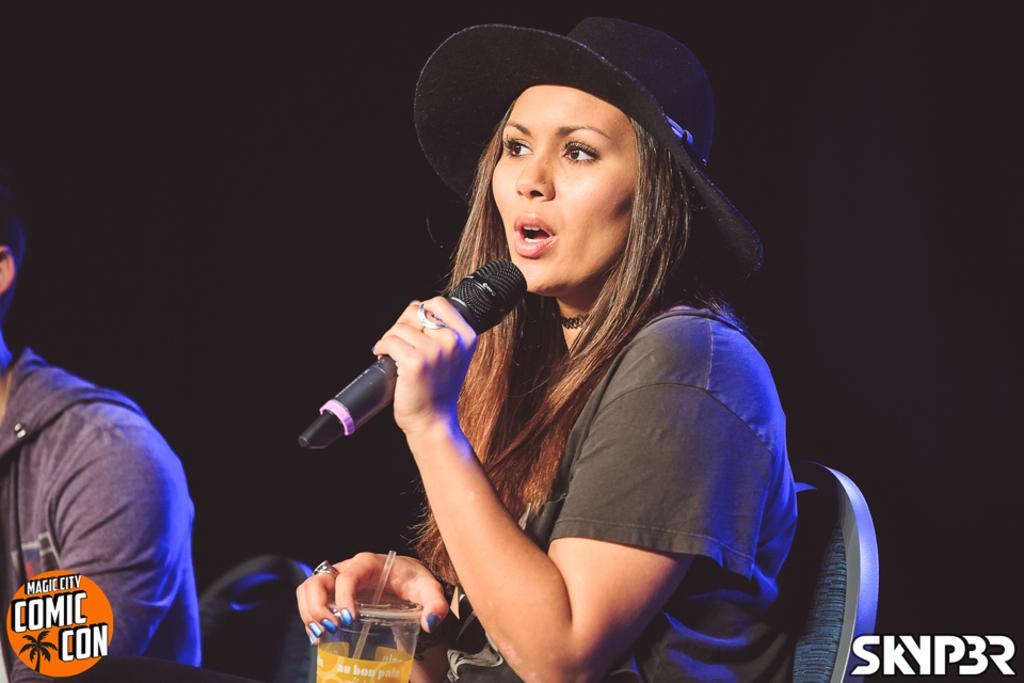Hat: (408, 11, 756, 350)
